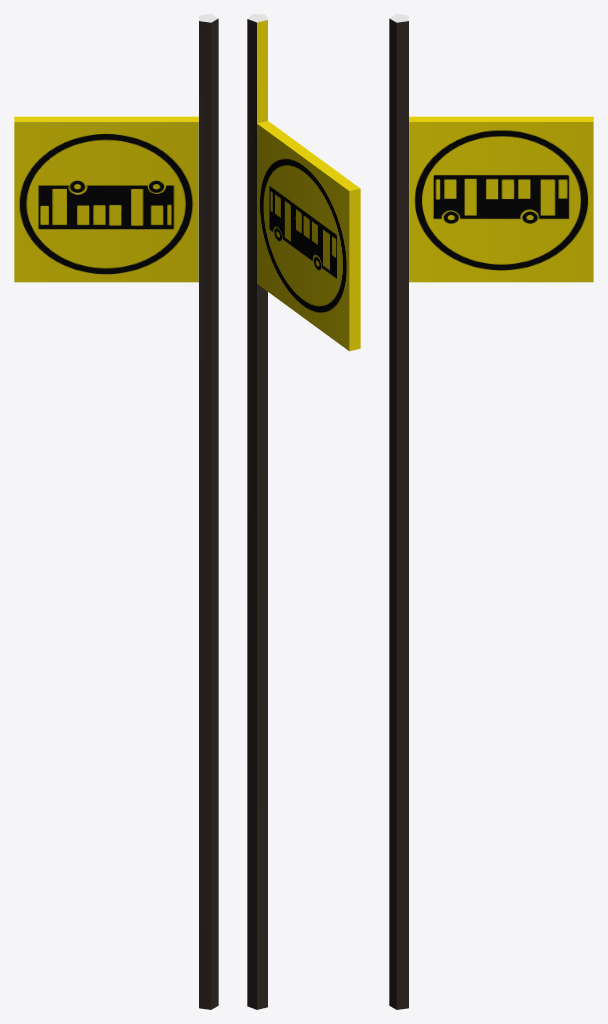
Rendered from SM_Bus_sign_HUB.fbx.
The picture shows the model from 3 angles, left to right: view 1: azimuth 90°, elevation 25°; view 2: azimuth 210°, elevation 25°; view 3: azimuth 270°, elevation 25°; orthographic projection.
Parts seen in each view (by area): view 1: pCylinder1; view 2: pCylinder1; view 3: pCylinder1.
Part boxes in pixels (x1,y1,x2,y2): pCylinder1: (14,14,218,1009); pCylinder1: (247,14,360,1009); pCylinder1: (389,14,593,1009).
Size of the model in its own units: 0.6049 by 31.76 by 5.96.
